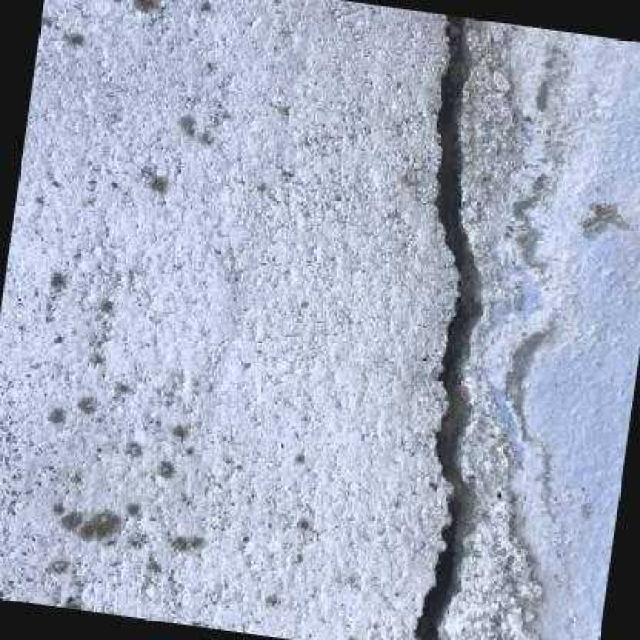D00: (412, 14, 481, 640)
